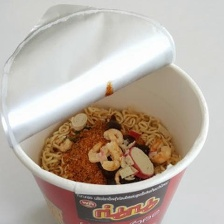paper_cup: (0, 0, 217, 224)
